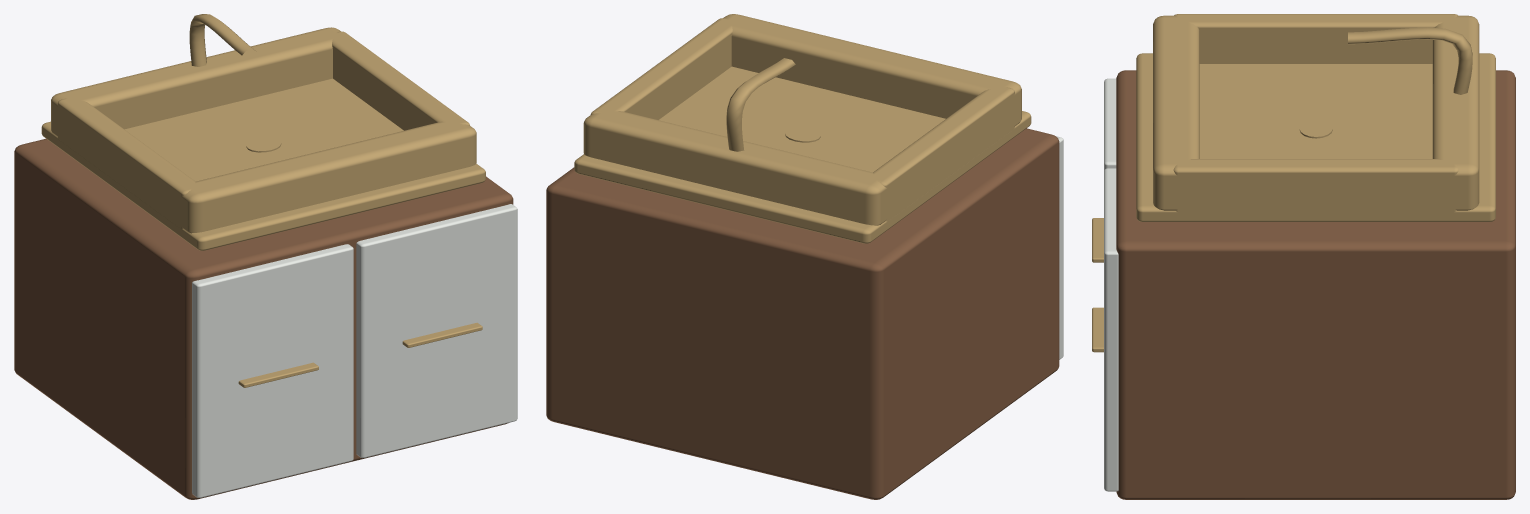
The model's file is sink-7-3.glb.
3 renders of one model, left to right at view 1: azimuth 30°, elevation 25°; view 2: azimuth 150°, elevation 25°; view 3: azimuth 270°, elevation 25°, orthographic. The views are drawn at different scales.
Visible parts, largest first — view 1: upholstery (×3); view 2: upholstery (×3); view 3: upholstery (×3).
Boxes of the visible parts, <box> form: upholstery (×3): <box>14,14,517,499</box>; upholstery (×3): <box>546,14,1063,499</box>; upholstery (×3): <box>1092,14,1515,499</box>.
Bounding box in the file's own units: 1 × 1 × 1.
